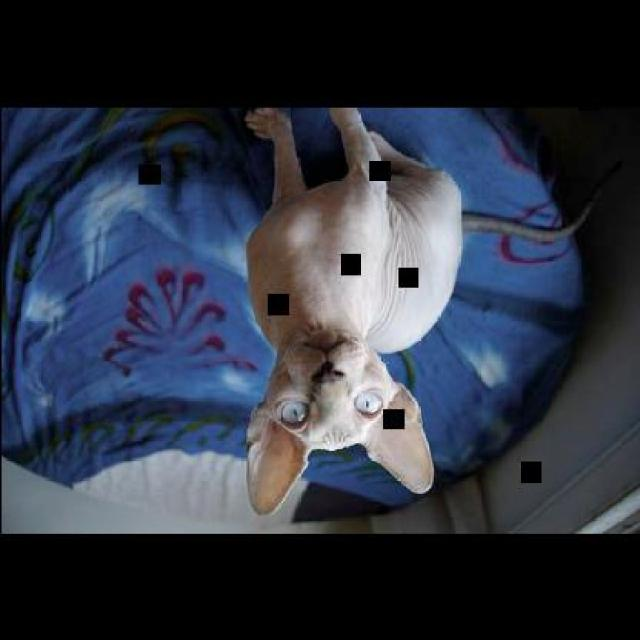unauthorized: (240, 104, 463, 516)
